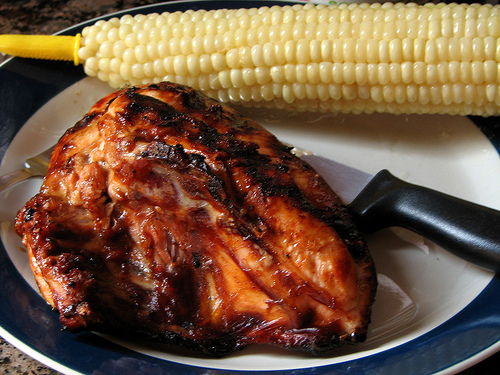corn: (80, 6, 499, 119)
